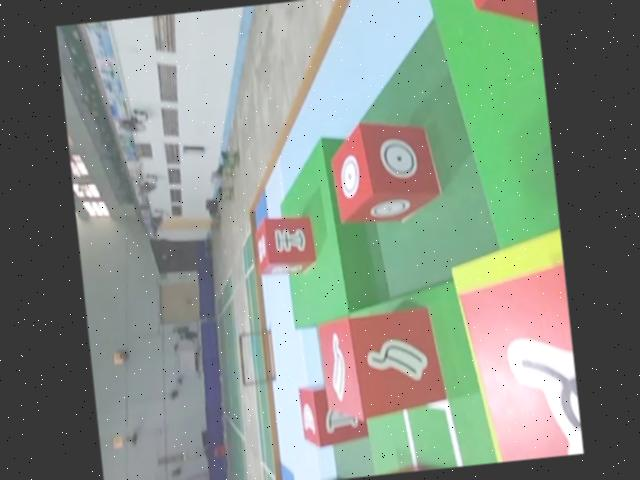R2 Real: (315, 303, 450, 426), (322, 113, 446, 231), (294, 377, 372, 450), (248, 211, 319, 279)
